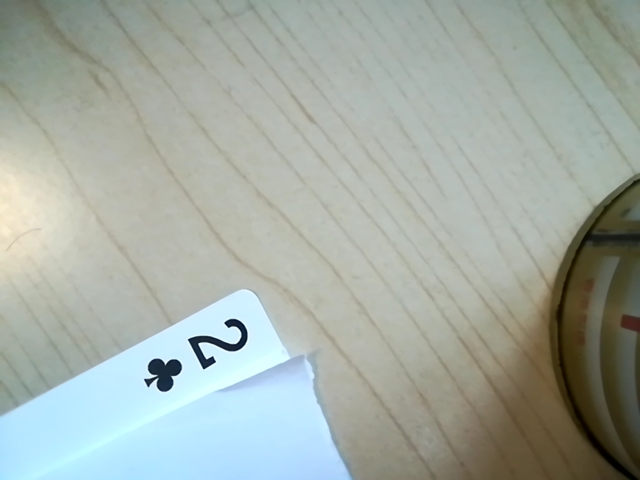mh 2: (131, 312, 273, 396)
